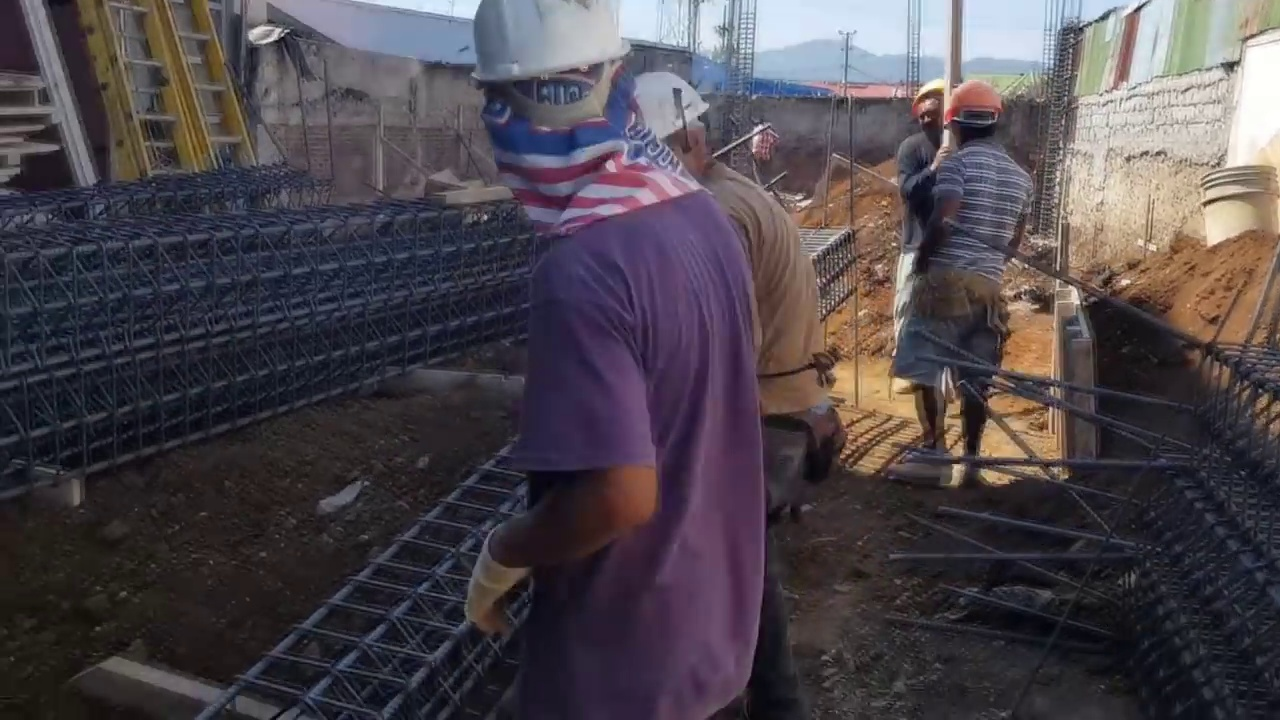helmet: (460, 0, 627, 87), (633, 69, 710, 158), (949, 76, 1011, 121), (909, 77, 949, 108)
helmet-off: (751, 115, 764, 128)
helmet-on: (453, 2, 645, 207), (633, 68, 724, 186), (948, 74, 1011, 156), (909, 79, 952, 142)
person: (453, 5, 756, 707), (633, 54, 842, 529), (895, 74, 1030, 492), (886, 71, 952, 330), (747, 116, 776, 186)
